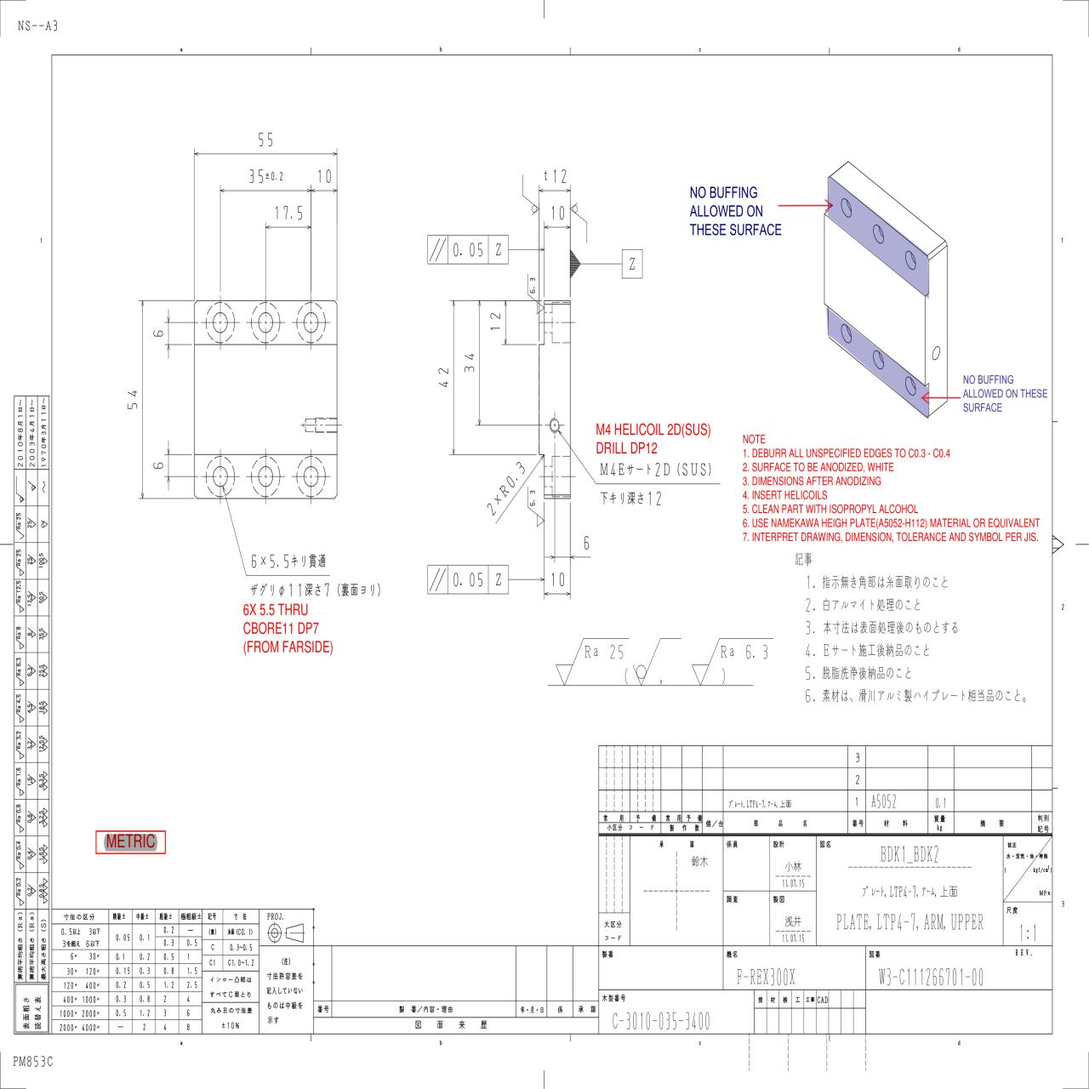basic_dimension: (249, 168, 283, 184), (275, 206, 302, 220), (258, 132, 273, 147), (127, 390, 138, 410), (438, 367, 448, 388), (464, 353, 474, 373), (552, 572, 565, 587), (318, 169, 331, 183), (551, 206, 564, 220), (490, 313, 500, 330), (584, 535, 589, 550), (153, 330, 163, 337), (153, 462, 163, 469)
datum_symbol: (570, 248, 643, 280)
dimension_diameter_symbol: (277, 583, 302, 600)
dimension_radius_symbol: (498, 460, 526, 499)
dimension_thickness_symbol: (543, 169, 566, 183)
gdt_frame_symbol: (425, 561, 512, 598), (426, 234, 510, 268)
gdt_parallelism_symbol: (429, 567, 447, 592), (429, 237, 447, 262)
surface_finish_symbol: (527, 273, 545, 315), (522, 174, 540, 216), (527, 486, 545, 527), (570, 202, 587, 243)
